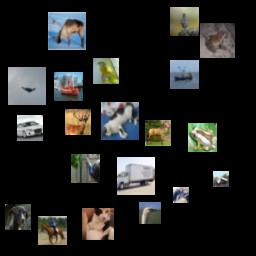airplane: (8, 67, 46, 105), (173, 187, 189, 203)
automobile: (17, 115, 43, 141)
bird: (71, 154, 100, 183), (170, 7, 199, 36), (93, 58, 119, 84), (139, 202, 161, 224)
cat: (101, 102, 139, 140), (82, 208, 114, 240)
deer: (48, 12, 86, 50), (65, 109, 91, 135)
dog: (5, 204, 31, 230)
frog: (200, 23, 235, 58), (188, 123, 217, 152)
ship: (54, 72, 83, 101), (170, 60, 199, 89)
truck: (117, 157, 155, 195), (213, 171, 229, 187)
